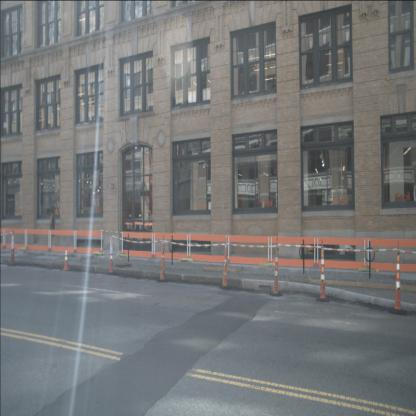cone: (390, 251, 406, 315), (316, 240, 330, 302), (270, 238, 282, 297), (157, 234, 168, 282), (219, 243, 230, 289), (107, 234, 115, 275), (8, 230, 17, 266), (62, 247, 70, 271)
